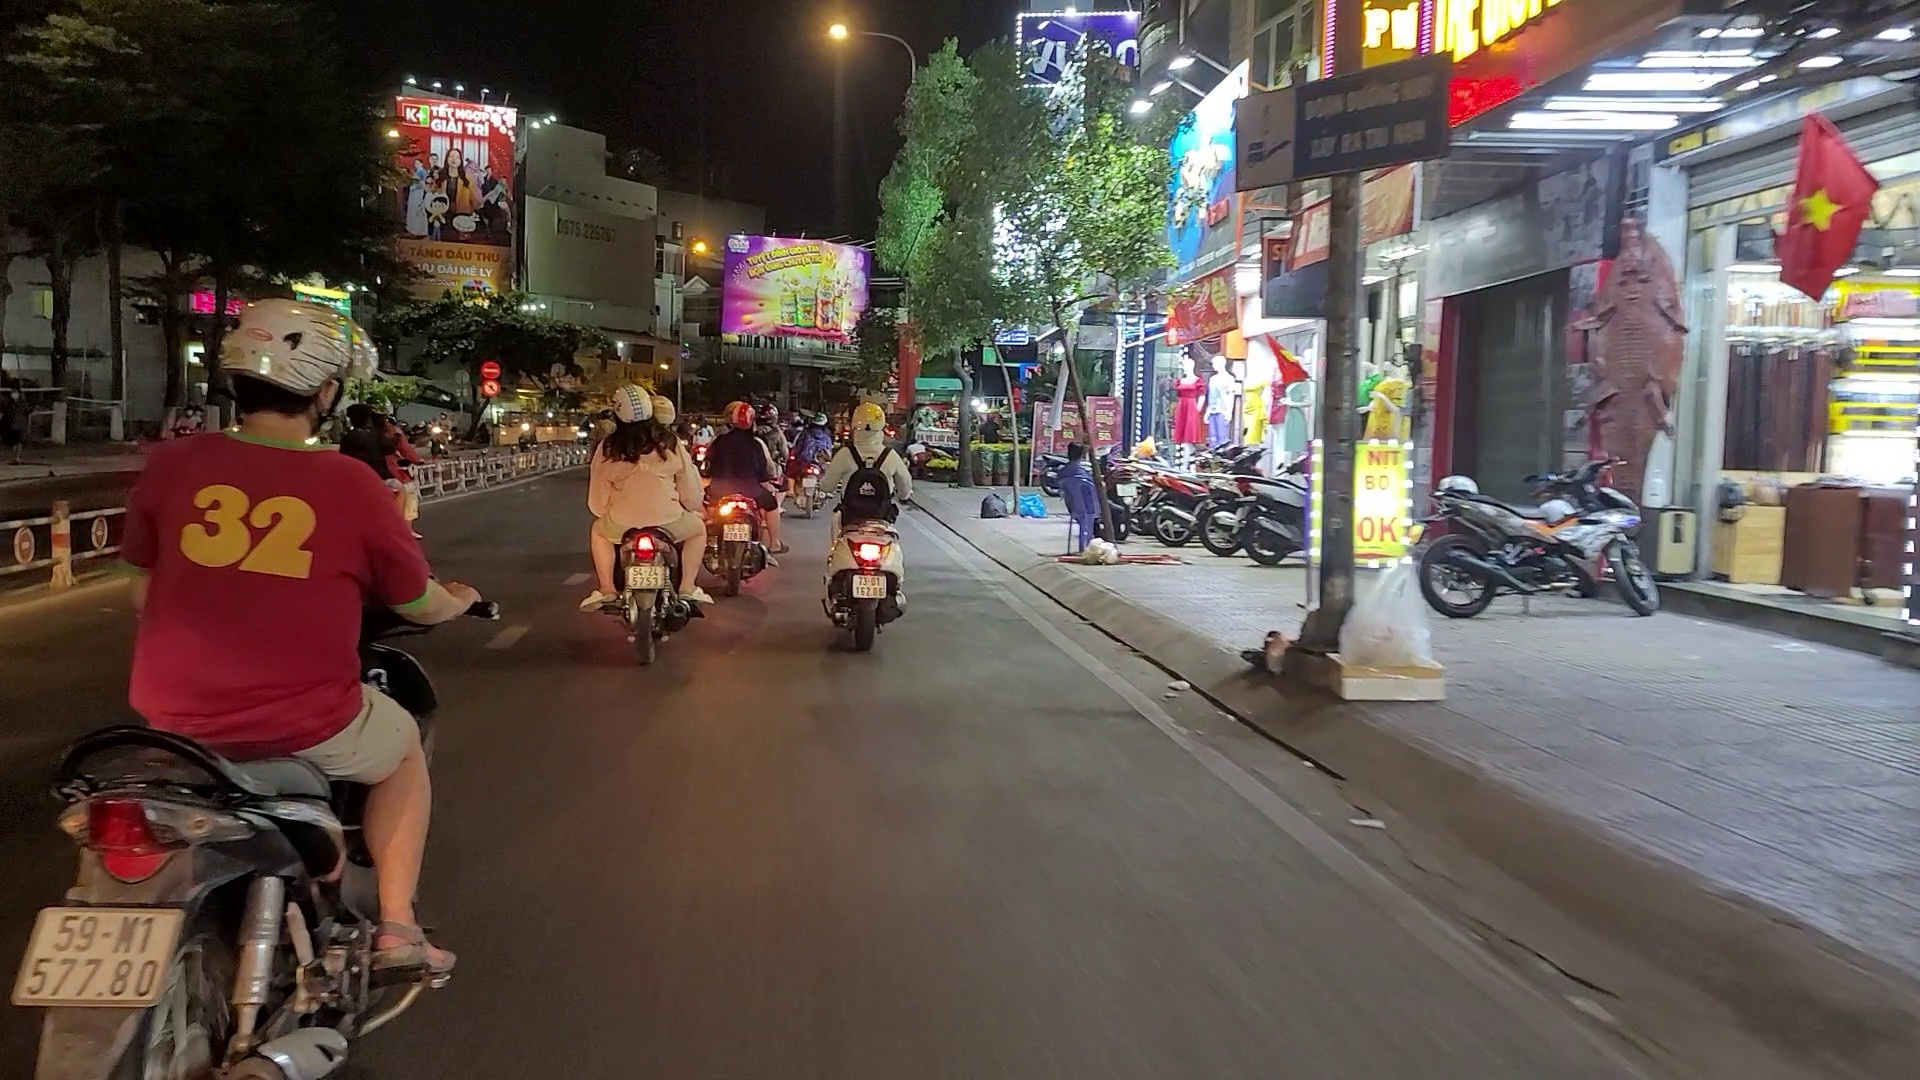Bien khac: (1236, 45, 1451, 190)
